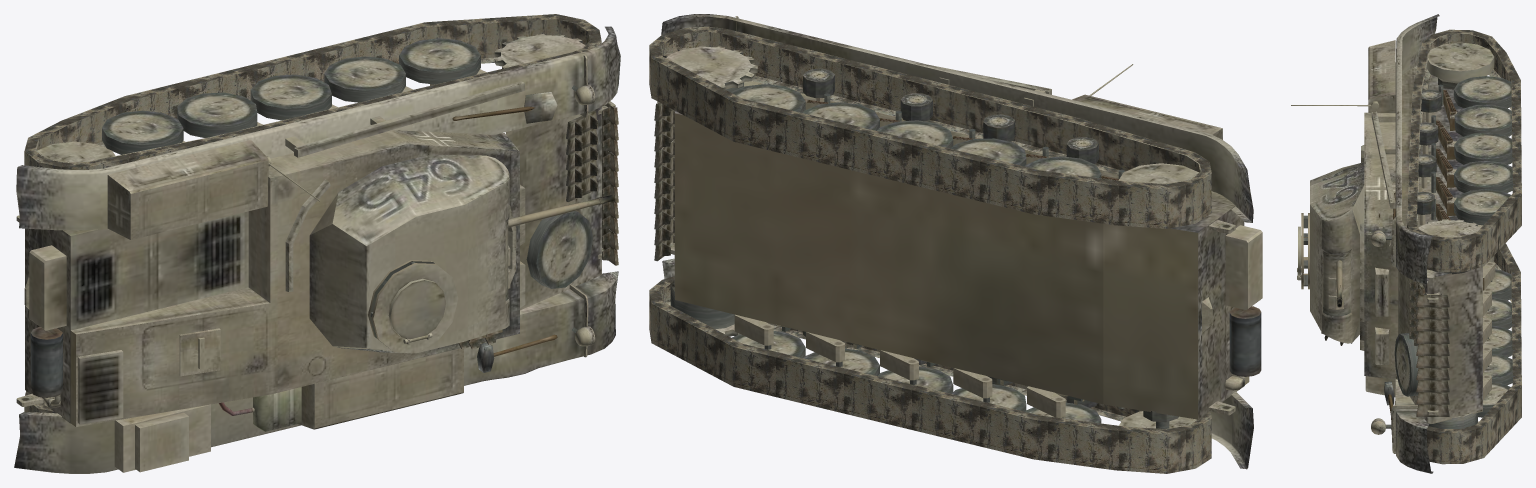
The model's file is vehicle_panzer_ii_static.glb.
The picture shows the model from 3 angles, left to right: view 1: azimuth 30°, elevation 25°; view 2: azimuth 150°, elevation 25°; view 3: azimuth 270°, elevation 25°; orthographic projection. The views are drawn at different scales.
Bounding box in the file's own units: 239 × 115 × 103.
Materials: 2 (2 with a texture image).
